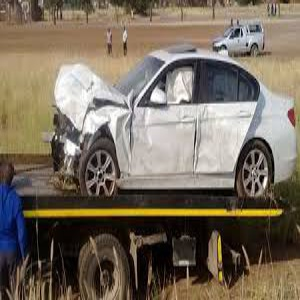door: (138, 110, 242, 174)
